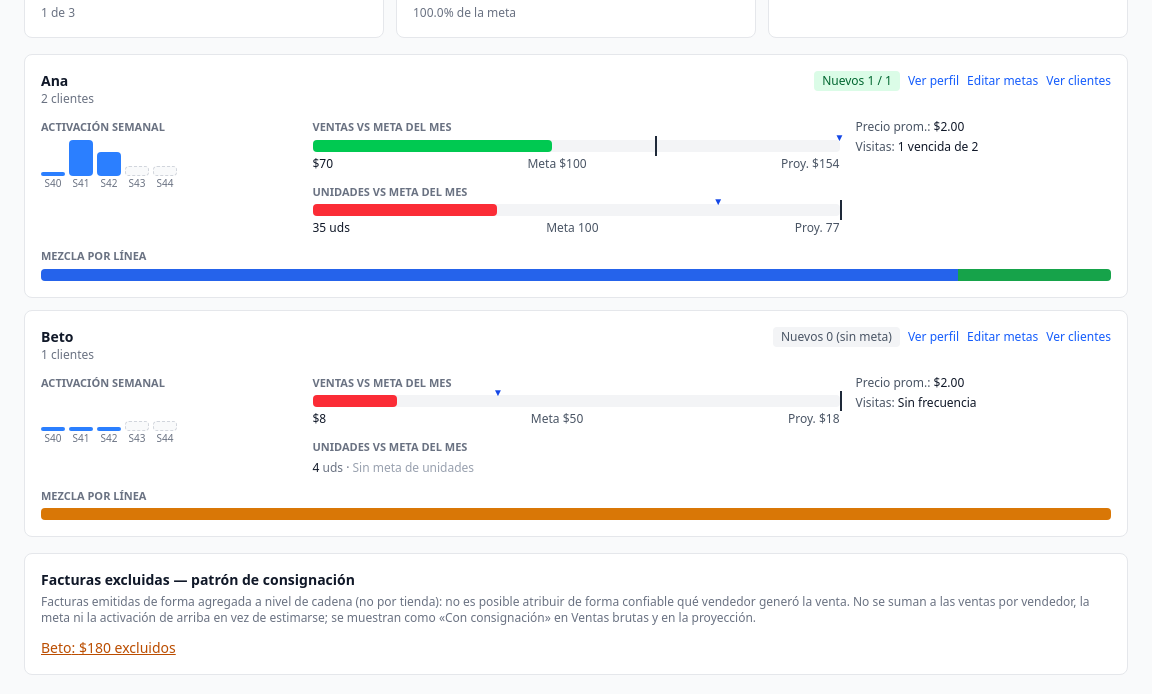
TabSeguimiento › the consignment toggle reports whether its invoice list is open
The image size is (1152, 694).
(page scrolled)
Expected: the heading "Facturas excluidas — patrón de consignación" is shown, [41,570,355,589]
Click the button "Beto: $180 excluidos" at (108, 648), box [41,638,176,658]
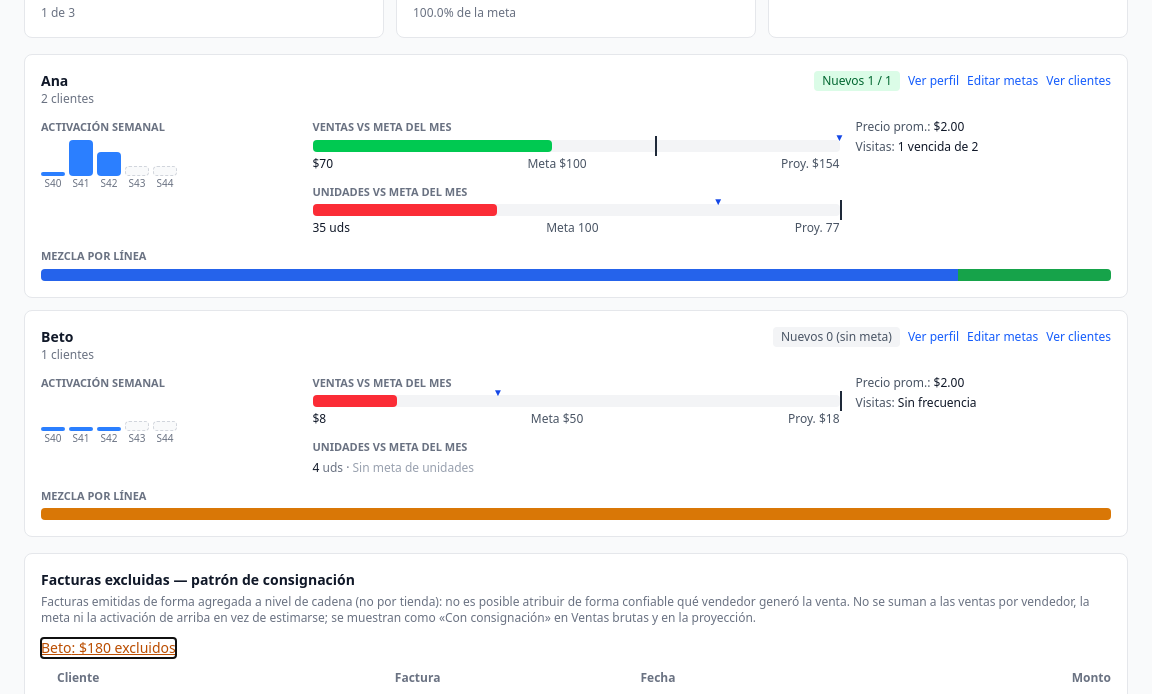
Expected: the button "Beto: $180 excluidos" is expanded, [41,638,176,658]
